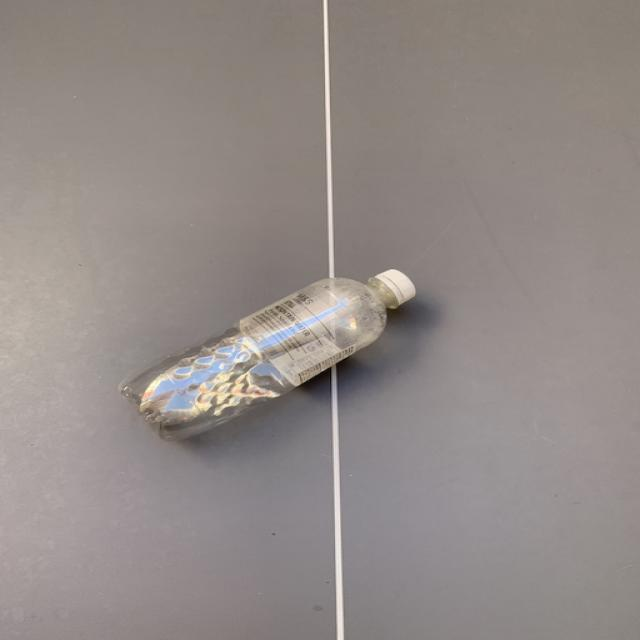Waste: (121, 270, 416, 441)
